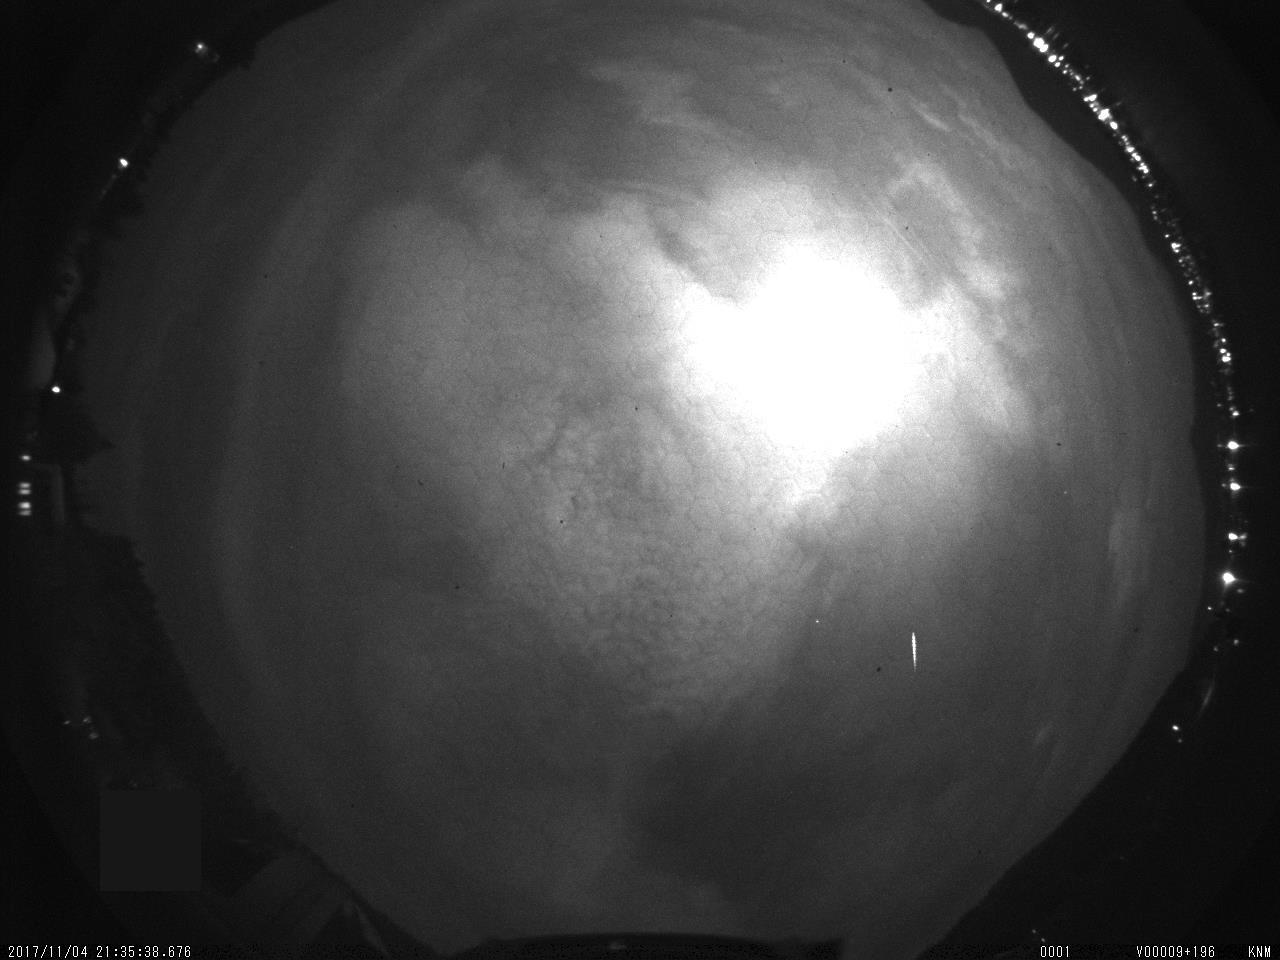meteor: (898, 624, 928, 685)
